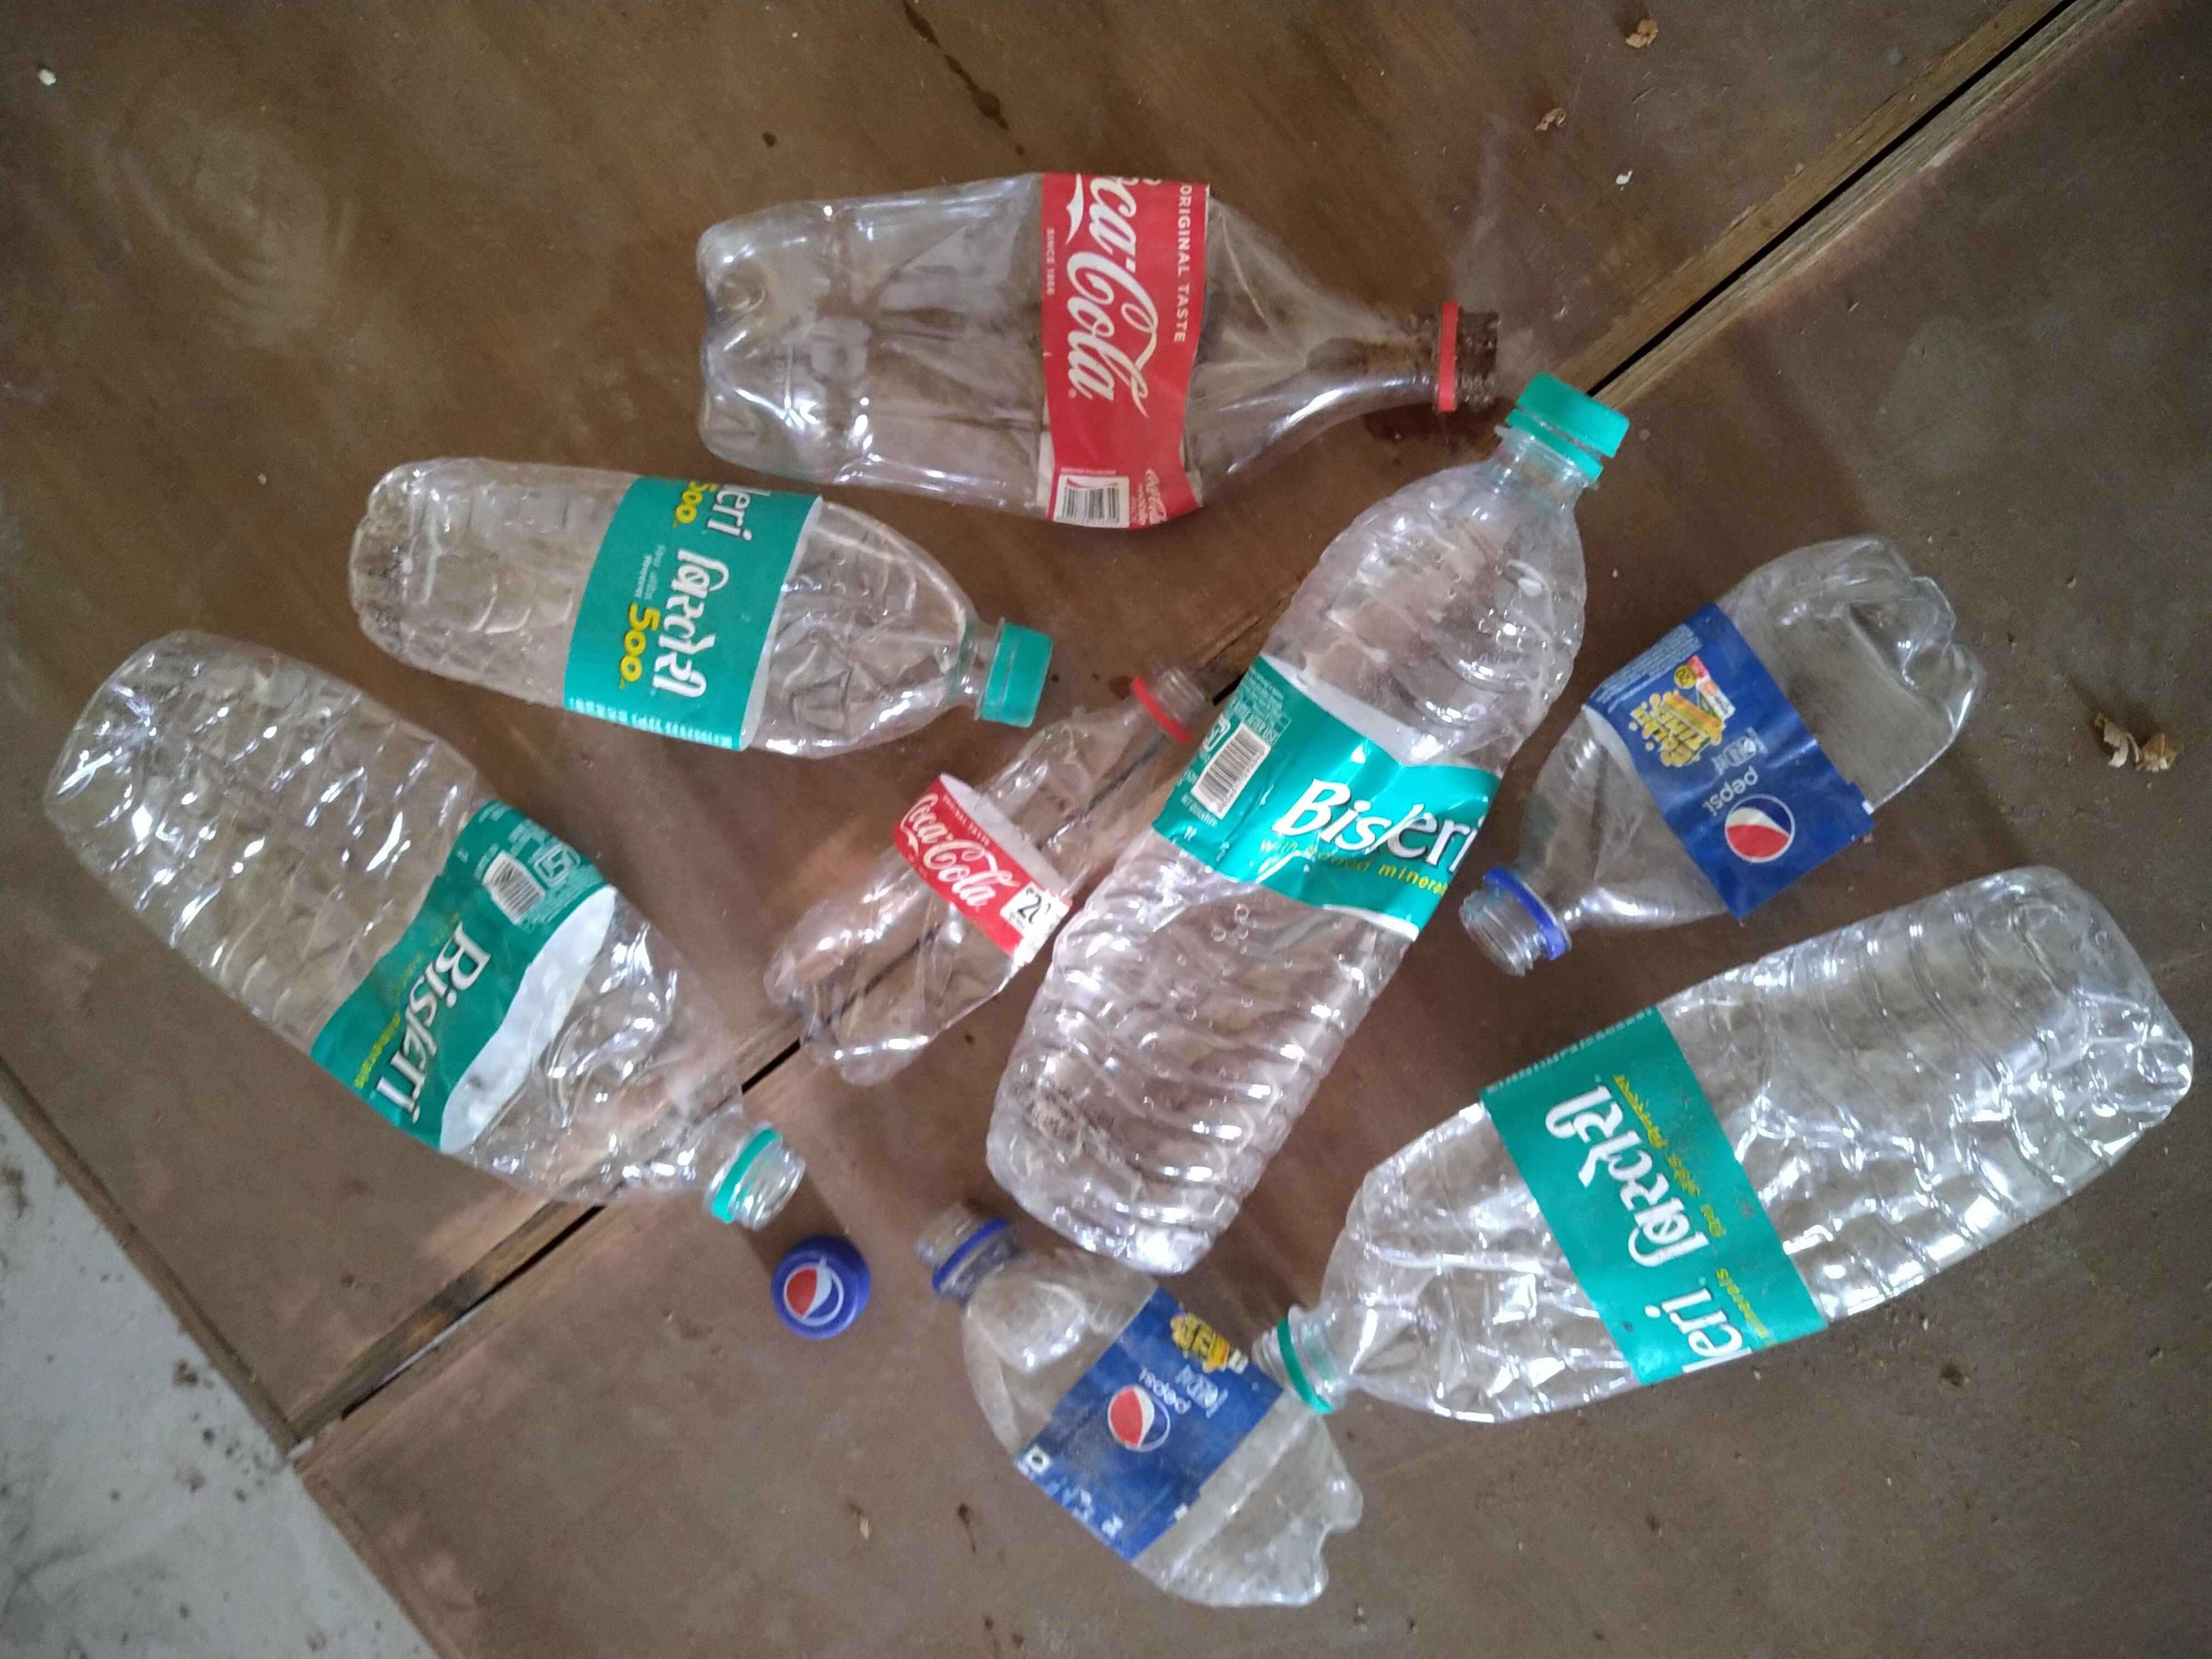Bisleri: (1545, 1056, 1787, 1385), (368, 838, 573, 1127), (1252, 709, 1477, 906), (646, 462, 749, 742)
Coca-Cola: (1057, 174, 1190, 502), (907, 789, 1094, 941)
pepsi: (1696, 737, 1815, 868), (1096, 1349, 1216, 1476), (766, 1255, 864, 1331)
